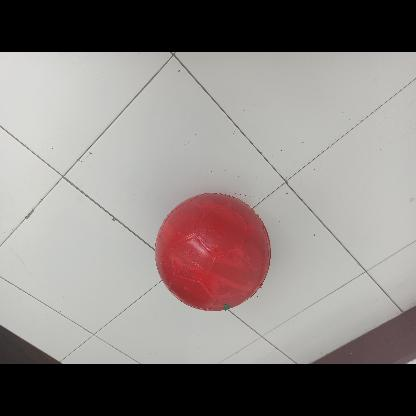red_ball: (154, 193, 272, 311)
